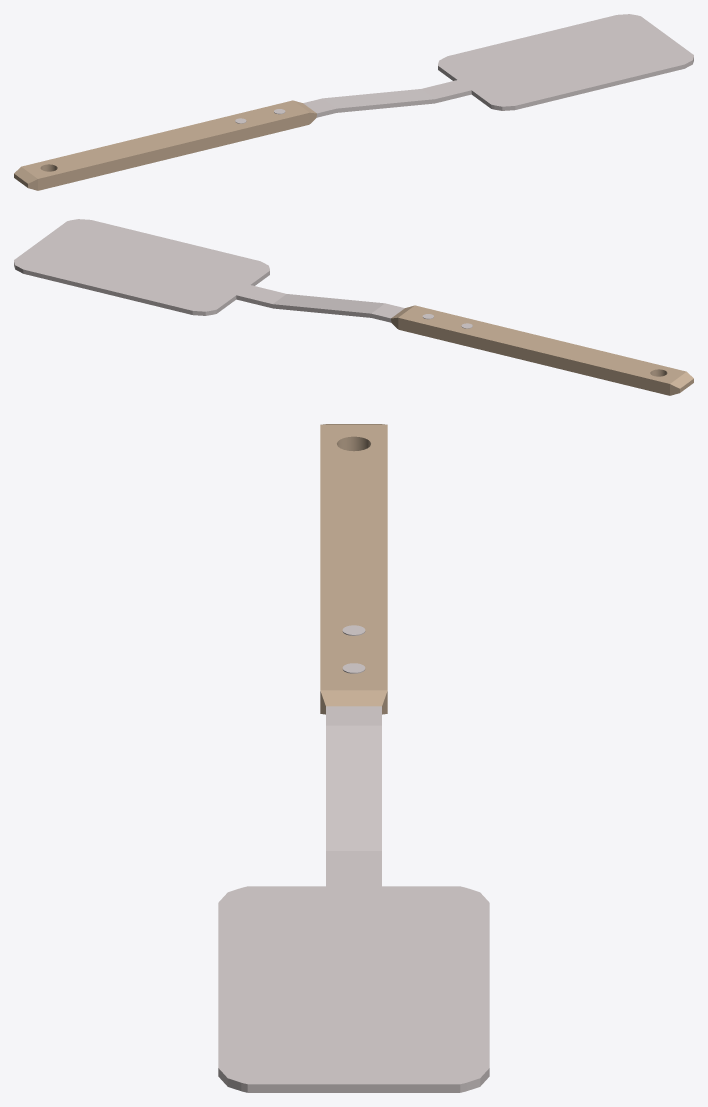
Rendered from spatula.fbx.
3 views of the same model, one above another, from view 1: azimuth 30°, elevation 25°; view 2: azimuth 150°, elevation 25°; view 3: azimuth 270°, elevation 25° (orthographic). The views are drawn at different scales.
Visible parts, largest first — view 1: spatula; view 2: spatula; view 3: spatula.
Boxes of the visible parts, bbox=[...] form: spatula: bbox=[14, 14, 693, 190]; spatula: bbox=[14, 219, 693, 395]; spatula: bbox=[218, 424, 489, 1092].
Size of the model in its own units: 31.25 by 1.07 by 5.68.
